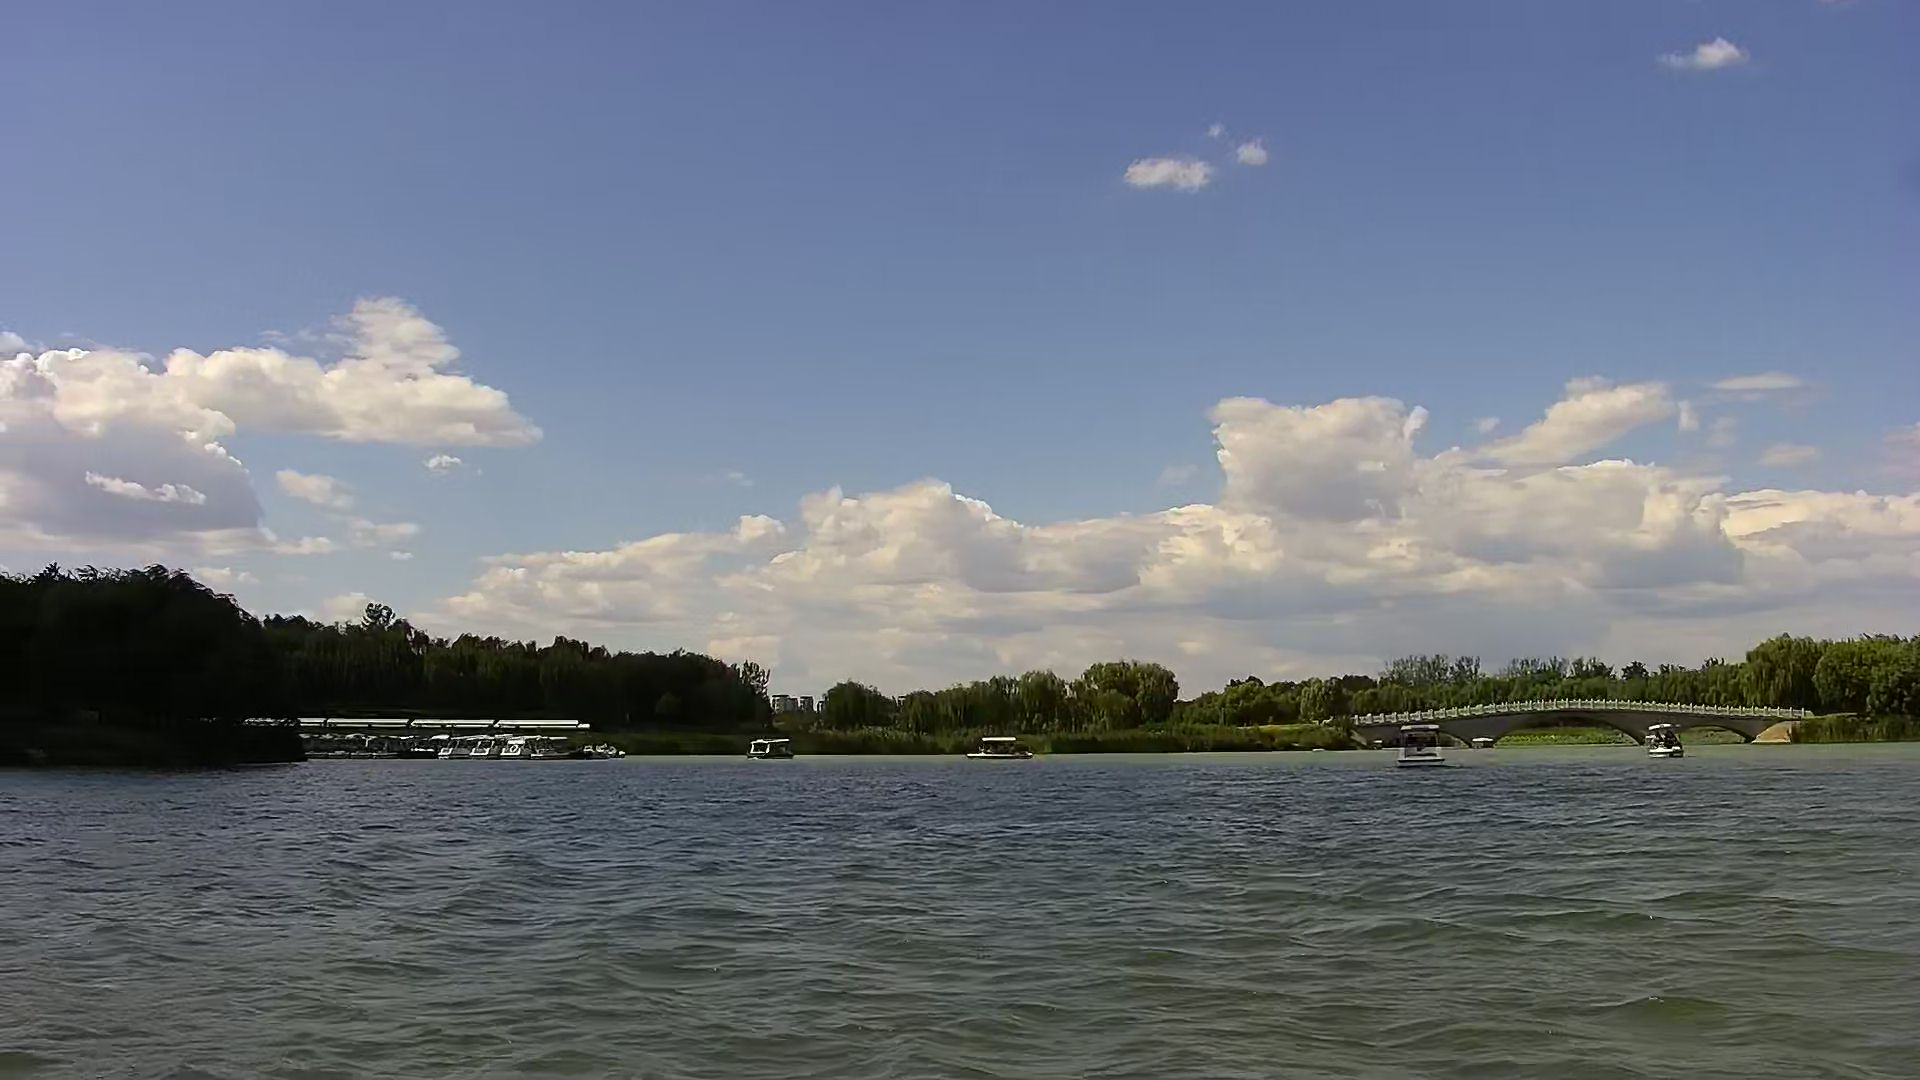boat: (1394, 720, 1448, 766), (1640, 721, 1691, 760), (963, 737, 1040, 758), (742, 733, 796, 764)
bridge: (1333, 699, 1818, 748)
harbor: (231, 708, 634, 766)
